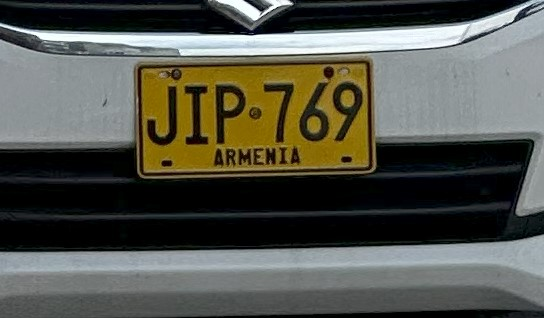number plate: (138, 61, 374, 177)
